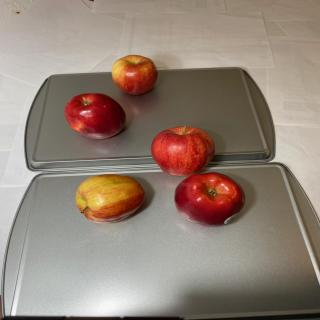Apple: (174, 172, 246, 227), (75, 174, 145, 223), (151, 126, 215, 176), (64, 93, 126, 139), (111, 54, 158, 96)
